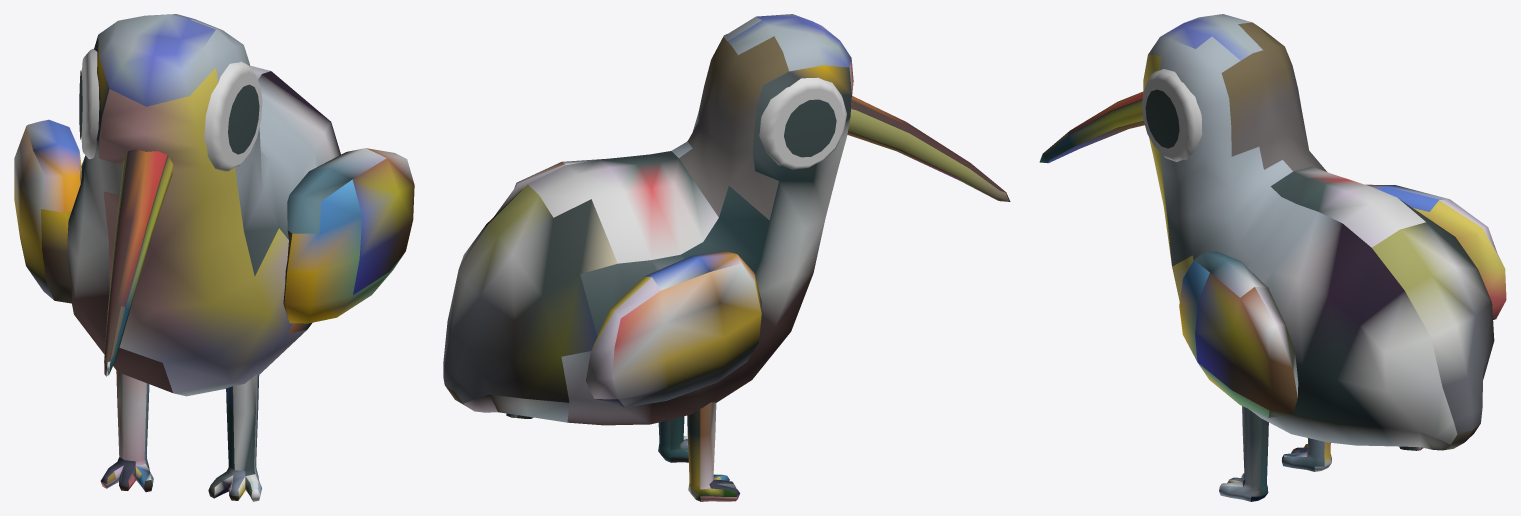
Rendered from Kiwi.glb.
3 views of the same model, side by side, from view 1: azimuth 30°, elevation 25°; view 2: azimuth 150°, elevation 25°; view 3: azimuth 270°, elevation 25° (orthographic). The views are drawn at different scales.
Parts seen in each view (by area): view 1: 85; view 2: 85; view 3: 85.
Boxes of the visible parts, bbox=[...] form: 85: bbox=[14, 14, 414, 501]; 85: bbox=[443, 14, 1010, 501]; 85: bbox=[1039, 14, 1506, 501].
Bounding box in the file's own units: 0.6044 × 0.6487 × 0.6377.
